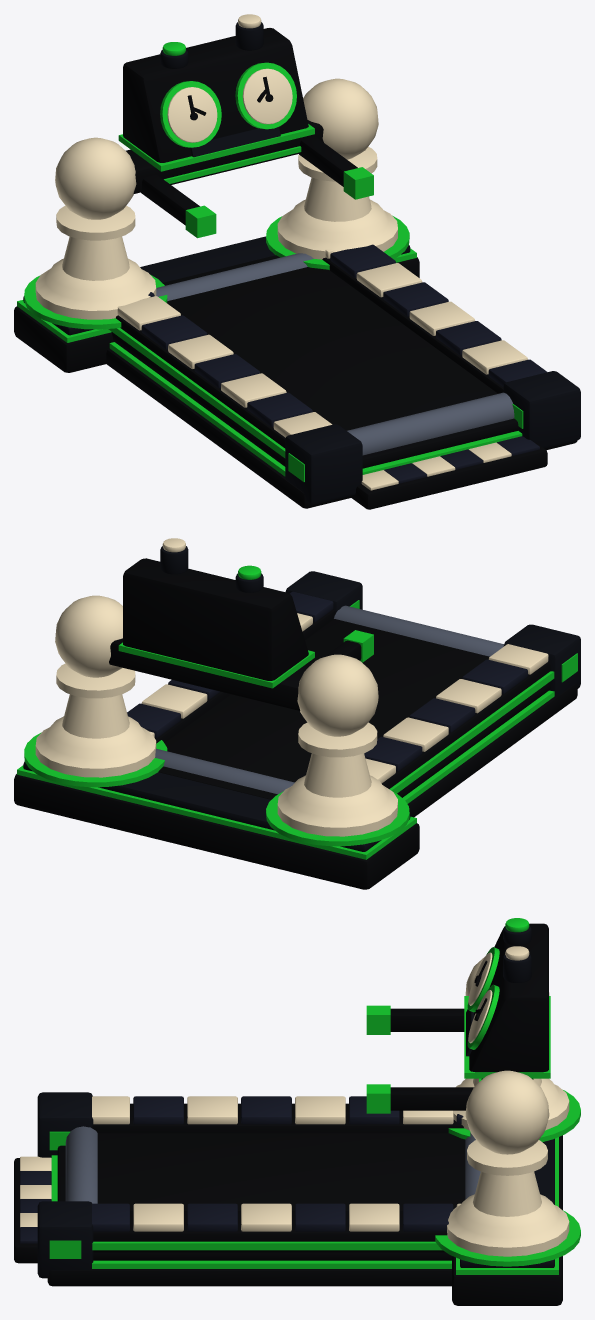
Rendered from PawnMill.obj.
3 views of the same model, one above another, from view 1: azimuth 30°, elevation 25°; view 2: azimuth 150°, elevation 25°; view 3: azimuth 270°, elevation 25° (orthographic). The views are drawn at different scales.
Visible parts, largest first — view 1: PawnMill_Chess, PawnMill_Body, PawnMill_Belt, PawnMill_Neon, PawnMill_Panel, PawnMill_Square, PawnMill_Steel; view 2: PawnMill_Body, PawnMill_Chess, PawnMill_Belt, PawnMill_Neon, PawnMill_Panel, PawnMill_Square, PawnMill_Steel; view 3: PawnMill_Body, PawnMill_Chess, PawnMill_Belt, PawnMill_Neon, PawnMill_Square, PawnMill_Panel, PawnMill_Steel.
Part boxes in pixels (x1=…): PawnMill_Chess: x1=35, y1=14, x2=527, y2=490; PawnMill_Body: x1=14, y1=28, x2=577, y2=509; PawnMill_Belt: x1=162, y1=255, x2=497, y2=430; PawnMill_Neon: x1=17, y1=42, x2=523, y2=481; PawnMill_Panel: x1=23, y1=22, x2=580, y2=504; PawnMill_Square: x1=141, y1=244, x2=547, y2=483; PawnMill_Steel: x1=156, y1=253, x2=514, y2=455; PawnMill_Body: x1=14, y1=558, x2=577, y2=889; PawnMill_Chess: x1=35, y1=538, x2=548, y2=836; PawnMill_Belt: x1=158, y1=619, x2=489, y2=799; PawnMill_Neon: x1=17, y1=565, x2=577, y2=859; PawnMill_Panel: x1=23, y1=546, x2=580, y2=851; PawnMill_Square: x1=127, y1=591, x2=527, y2=770; PawnMill_Steel: x1=155, y1=605, x2=503, y2=794; PawnMill_Body: x1=14, y1=923, x2=562, y2=1305; PawnMill_Chess: x1=20, y1=946, x2=569, y2=1256; PawnMill_Belt: x1=97, y1=1133, x2=465, y2=1210; PawnMill_Neon: x1=49, y1=918, x2=580, y2=1274; PawnMill_Square: x1=20, y1=1096, x2=463, y2=1243; PawnMill_Panel: x1=37, y1=926, x2=554, y2=1278; PawnMill_Steel: x1=65, y1=1126, x2=480, y2=1203.
Size of the model in its own units: 10.91 by 8.01 by 14.31.
